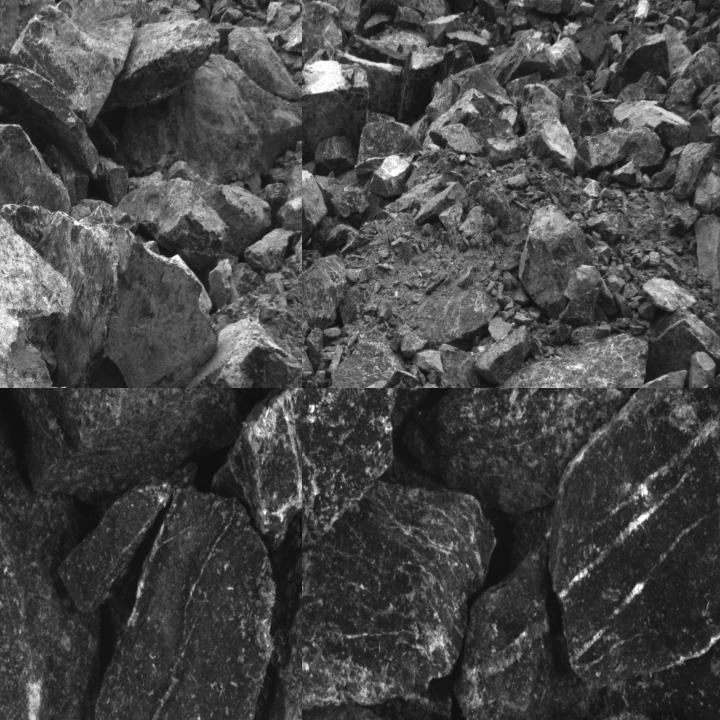stone: (549, 388, 719, 689), (78, 488, 277, 719), (302, 481, 497, 706), (0, 388, 102, 719), (404, 388, 632, 513), (0, 0, 159, 176), (0, 388, 242, 499), (452, 548, 600, 719), (85, 208, 216, 387), (220, 443, 301, 719), (127, 57, 301, 183), (61, 460, 198, 608), (6, 204, 116, 387), (211, 388, 301, 553), (104, 19, 217, 116), (120, 178, 226, 267), (478, 333, 649, 387), (518, 206, 591, 322), (302, 59, 367, 165), (194, 323, 301, 387), (0, 126, 72, 214), (407, 290, 500, 350), (546, 75, 621, 145), (648, 307, 719, 379), (355, 111, 422, 183), (324, 337, 417, 387), (335, 52, 404, 118), (0, 0, 56, 77), (302, 0, 344, 99), (606, 33, 670, 96), (302, 252, 345, 344), (509, 36, 584, 83), (475, 326, 531, 384), (354, 689, 455, 719), (526, 117, 576, 177), (302, 157, 327, 274), (574, 128, 630, 176), (670, 142, 715, 198), (248, 226, 296, 272), (520, 84, 562, 134), (670, 50, 719, 91), (317, 0, 371, 37), (622, 128, 664, 175), (437, 343, 481, 387), (641, 147, 686, 189), (314, 136, 359, 176), (428, 125, 484, 156), (506, 70, 542, 113), (632, 369, 688, 387), (214, 0, 278, 14), (283, 8, 301, 54), (302, 246, 323, 285), (369, 0, 418, 16), (611, 162, 643, 185)
